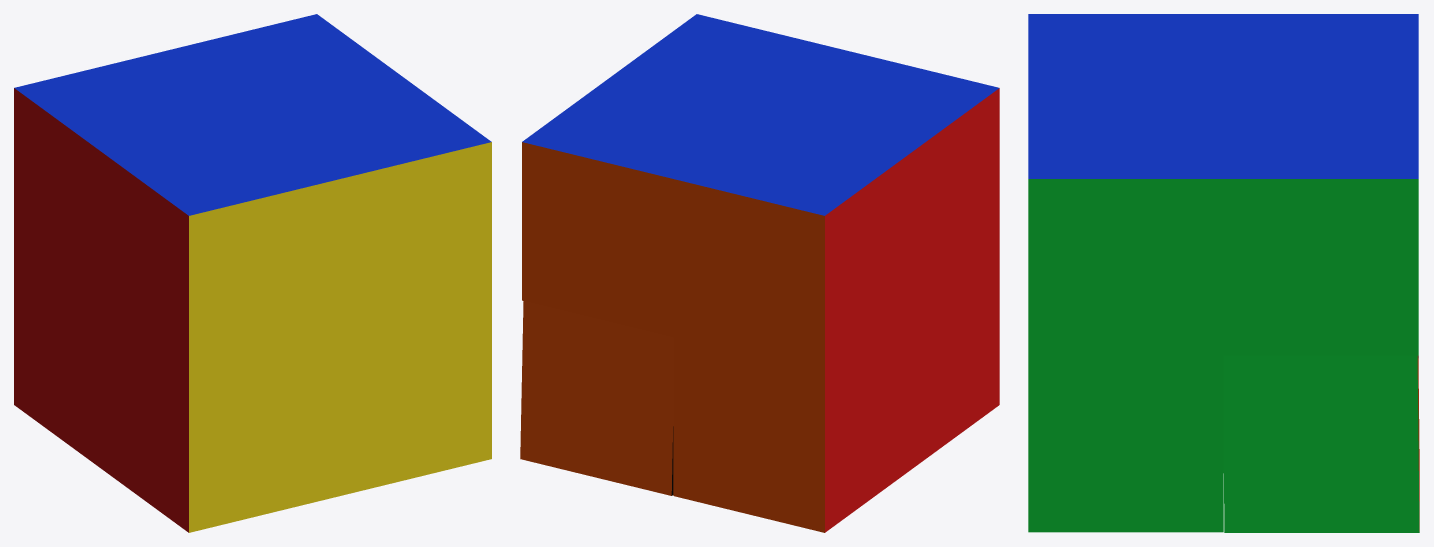
Rendered from TwistedCube.FBX.
3 renders of one model, left to right at view 1: azimuth 30°, elevation 25°; view 2: azimuth 150°, elevation 25°; view 3: azimuth 270°, elevation 25°, orthographic. The views are drawn at different scales.
Parts seen in each view (by area): view 1: Object004, Object003, Object008, Object005, Object006, Object002, Object007; view 2: Object005, Object002, Object007, Object004, Object001, Object003, Object008; view 3: Object007, Object008, Object001, Object006, Object004, Object005.
Boxes of the visible parts, left/top/right/bottom form: Object004: left=101, top=115, right=340, bottom=374; Object003: left=101, top=311, right=340, bottom=532; Object008: left=253, top=78, right=491, bottom=337; Object005: left=14, top=51, right=252, bottom=310; Object006: left=340, top=300, right=491, bottom=495; Object002: left=14, top=246, right=101, bottom=468; Object007: left=166, top=14, right=403, bottom=114; Object005: left=673, top=115, right=912, bottom=374; Object002: left=673, top=311, right=912, bottom=532; Object007: left=522, top=78, right=760, bottom=337; Object004: left=761, top=51, right=999, bottom=309; Object001: left=520, top=301, right=673, bottom=495; Object003: left=912, top=247, right=999, bottom=468; Object008: left=610, top=14, right=847, bottom=114; Object007: left=1223, top=96, right=1418, bottom=355; Object008: left=1028, top=96, right=1223, bottom=355; Object001: left=1223, top=355, right=1419, bottom=532; Object006: left=1028, top=355, right=1223, bottom=532; Object004: left=1028, top=14, right=1223, bottom=96; Object005: left=1223, top=14, right=1418, bottom=96.
Size of the model in its own units: 20.08 by 20 by 20.05.
7 materials, 1 textured.
